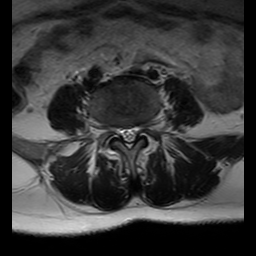CCS_normal: (125, 120, 132, 153)
LFS_normal: (140, 120, 147, 138)
LLS_normal: (133, 119, 140, 145)
RFS_normal: (110, 119, 118, 142)
RLS_normal: (118, 121, 126, 143)
